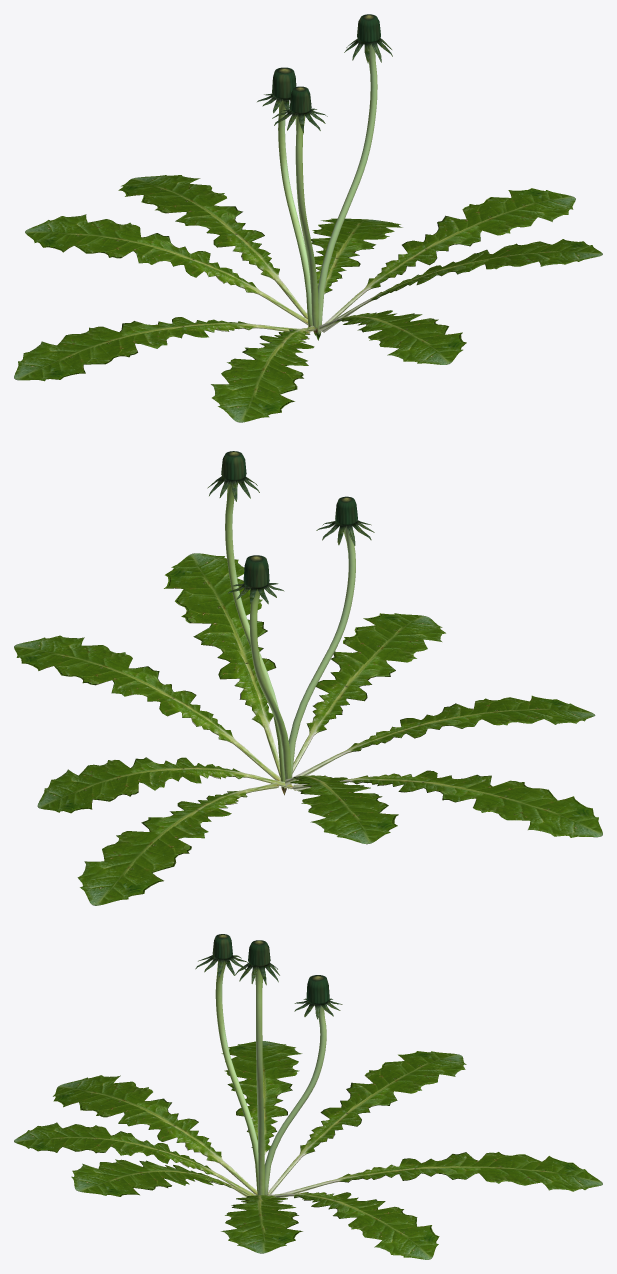
File: dandelionPreYellow.fbx
The picture shows the model from 3 angles, top to bottom: view 1: azimuth 30°, elevation 25°; view 2: azimuth 150°, elevation 25°; view 3: azimuth 270°, elevation 25°; orthographic projection. The views are drawn at different scales.
Visible parts, largest first — view 1: pPlane13, pPlane12, pPlane14, pPlane10, pPlane17, pPlane11, pPlane16, pSphere5, pPlane15, pSphere4, pSphere6; view 2: pPlane16, pPlane10, pPlane12, pPlane13, pPlane11, pPlane15, pPlane17, pPlane14, pSphere4, pSphere5, pSphere6; view 3: pPlane10, pPlane17, pPlane14, pPlane15, pPlane13, pPlane11, pPlane16, pPlane12, pSphere5, pSphere4, pSphere6.
Part boxes in pixels (x1,y1,x2,y2): pPlane13: [14, 317, 309, 381]; pPlane12: [324, 188, 575, 323]; pPlane14: [25, 214, 308, 325]; pPlane10: [118, 175, 307, 318]; pPlane17: [211, 325, 315, 422]; pPlane11: [319, 310, 466, 364]; pPlane16: [322, 239, 602, 332]; pSphere5: [316, 14, 392, 340]; pPlane15: [308, 218, 402, 333]; pSphere4: [272, 86, 327, 335]; pSphere6: [257, 67, 312, 326]; pPlane16: [164, 553, 280, 777]; pPlane10: [77, 782, 278, 905]; pPlane12: [14, 635, 280, 781]; pPlane13: [293, 770, 602, 837]; pPlane11: [292, 613, 445, 773]; pPlane15: [37, 757, 292, 813]; pPlane17: [292, 695, 595, 780]; pPlane14: [285, 775, 398, 844]; pSphere4: [288, 496, 374, 788]; pSphere5: [207, 451, 286, 795]; pSphere6: [227, 555, 291, 784]; pPlane10: [279, 1152, 602, 1197]; pPlane17: [53, 1075, 257, 1194]; pPlane14: [267, 1051, 466, 1194]; pPlane15: [267, 1192, 439, 1259]; pPlane13: [221, 1041, 302, 1154]; pPlane11: [14, 1122, 256, 1195]; pPlane16: [71, 1159, 251, 1197]; pPlane12: [221, 1195, 302, 1253]; pSphere5: [234, 940, 279, 1195]; pSphere4: [195, 934, 258, 1195]; pSphere6: [264, 975, 342, 1195].
Size of the model in its own units: 3.3 by 1.77 by 3.22.
